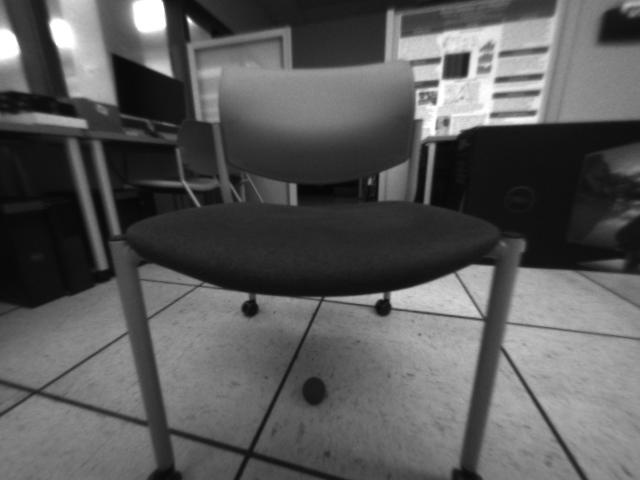dogtoy: (296, 372, 333, 411)
